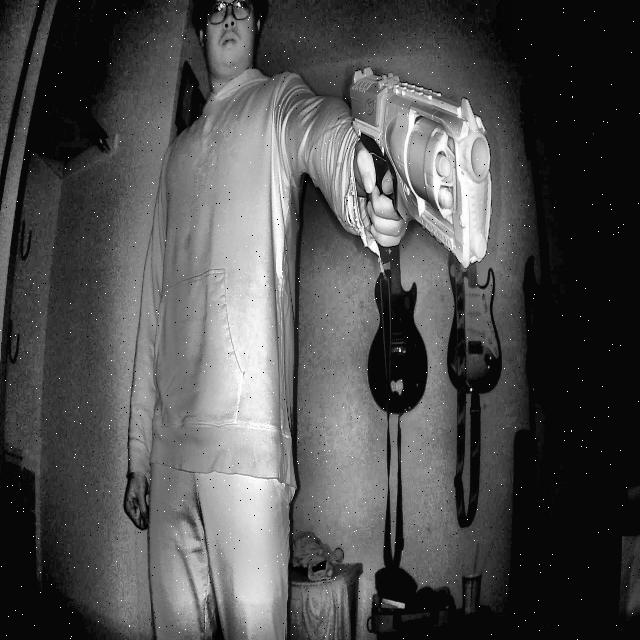Nerf_Blaster: (342, 42, 514, 358)
